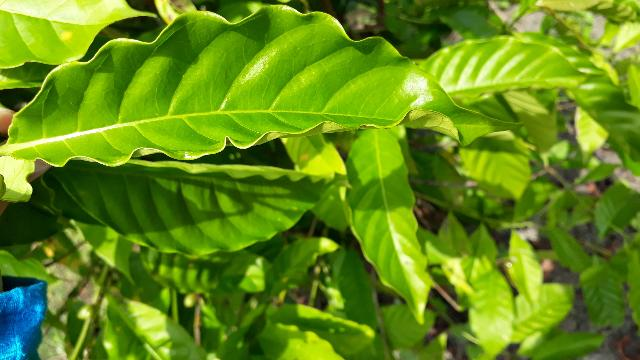healthy: (2, 6, 529, 164)
